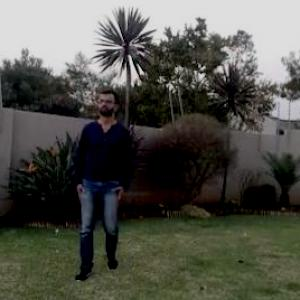follow: (66, 81, 135, 290)
